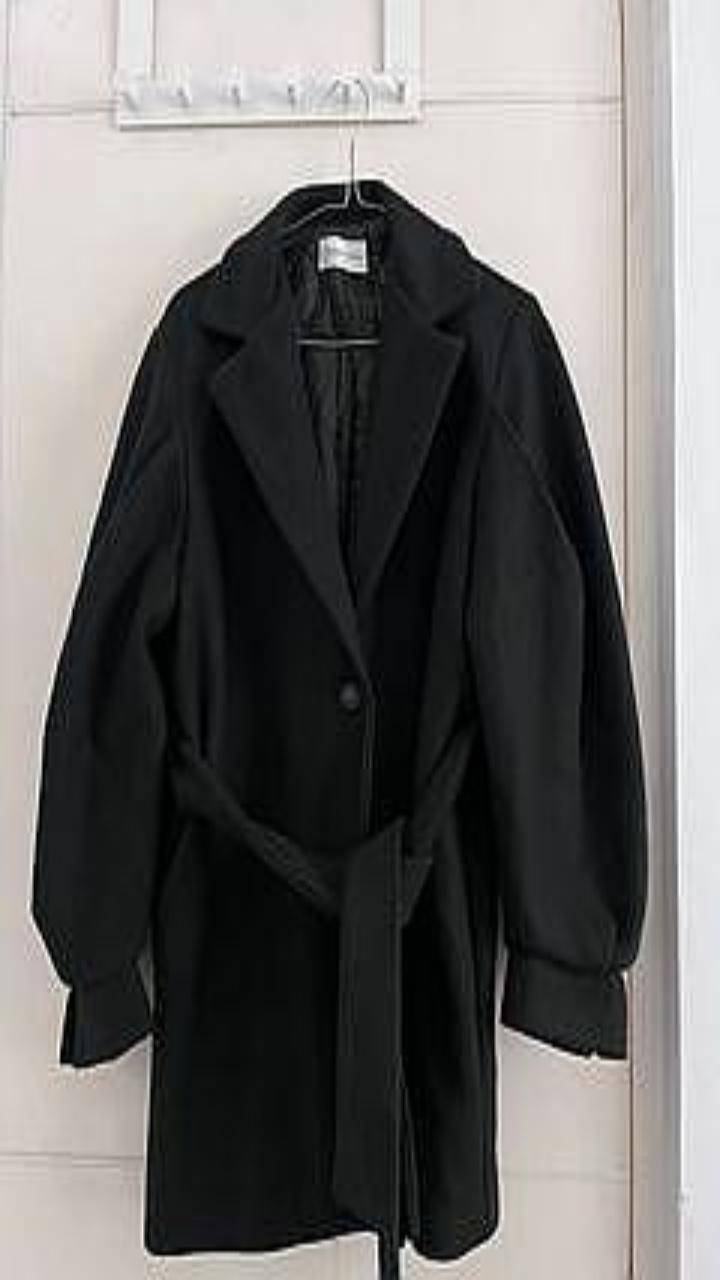Coat: (32, 179, 646, 1279)
